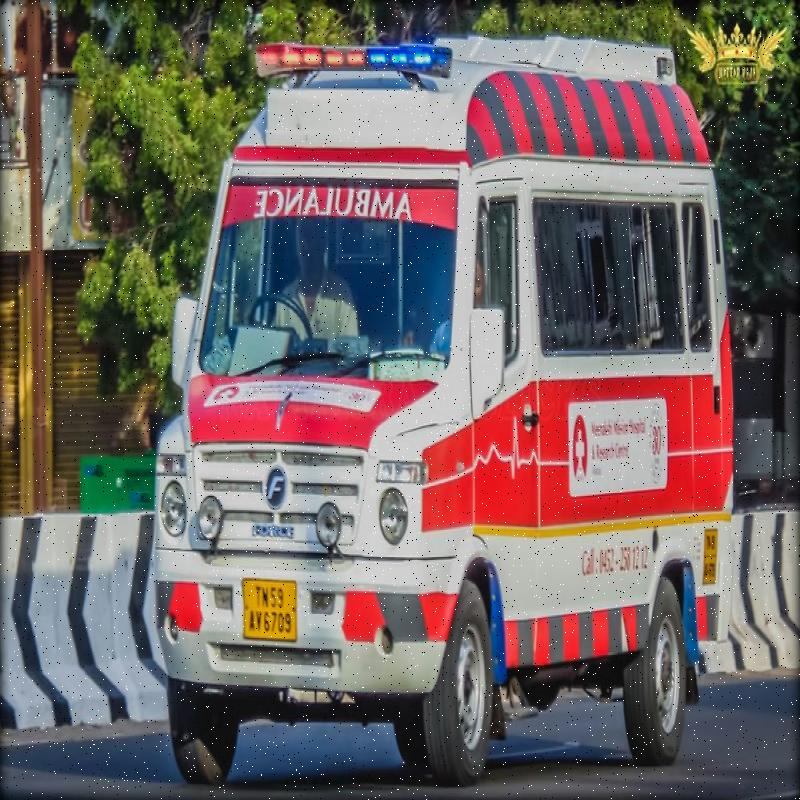AmbulanceSiren: (243, 39, 458, 99)
ambulance: (132, 1, 747, 796)
